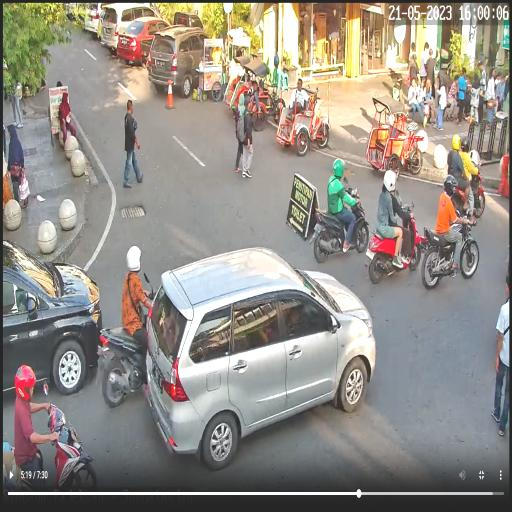mobil: (147, 247, 376, 470), (0, 241, 102, 400), (150, 26, 213, 100), (118, 15, 173, 73), (102, 4, 156, 60)
motor: (0, 389, 103, 492), (96, 294, 160, 403), (416, 211, 482, 297), (313, 178, 370, 264), (367, 215, 421, 292), (441, 170, 486, 221)
